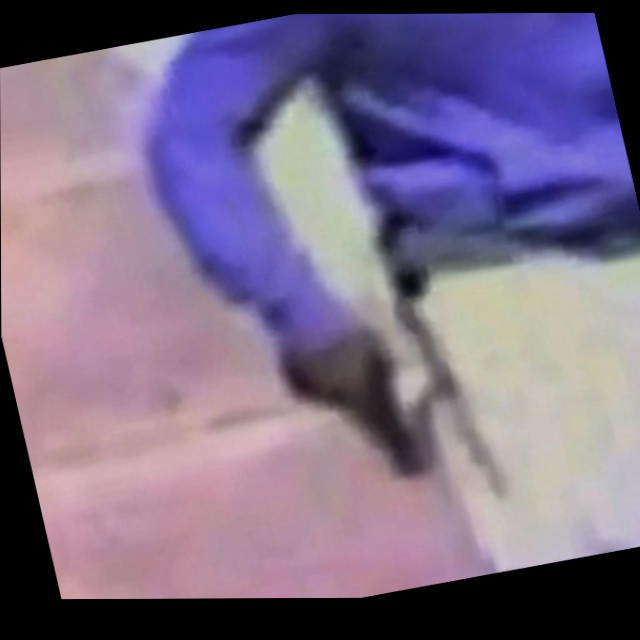gun: (275, 325, 470, 507)
